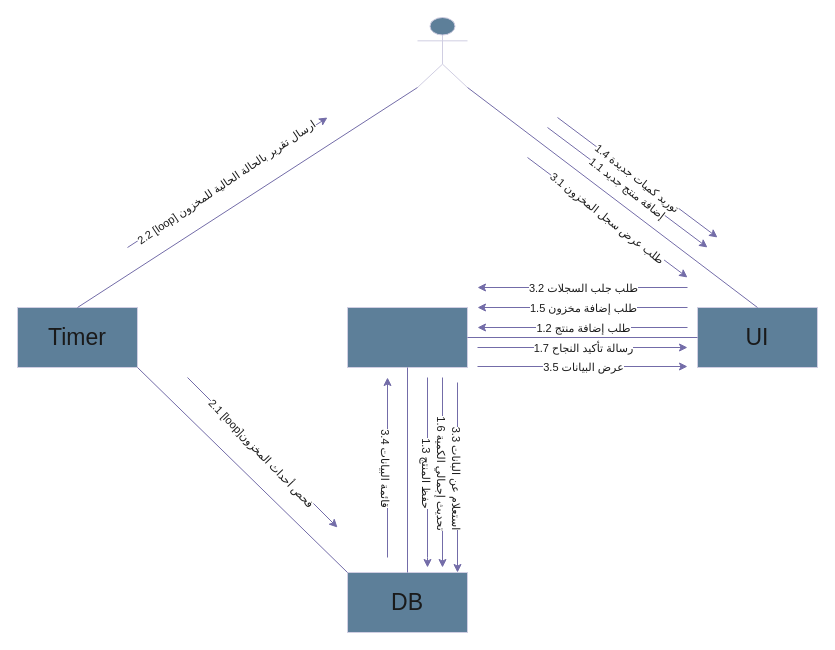
The diagram is 835 pixels wide and 650 high, and some of its shapes have lost their labels. The shapes that lost their labels are listed below. From the top down, each one's centre as x and y in pixels, then its label:
the point at 442,52: Invortery manegar
the point at 407,337: controller
